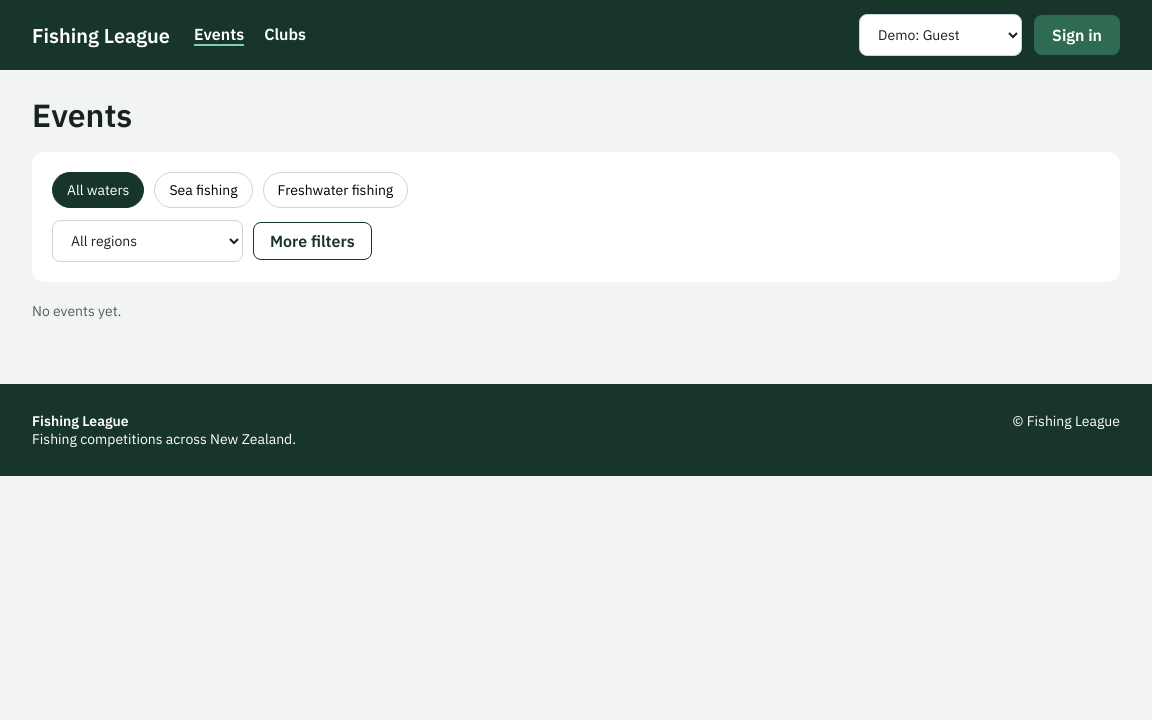
sign-in sheet on phones › works when the browser has no visualViewport
What coordinates should you click on to do the following:
click the button "Sign in"
I would click on:
 (1077, 35)
Its box is [1034,15,1120,55].
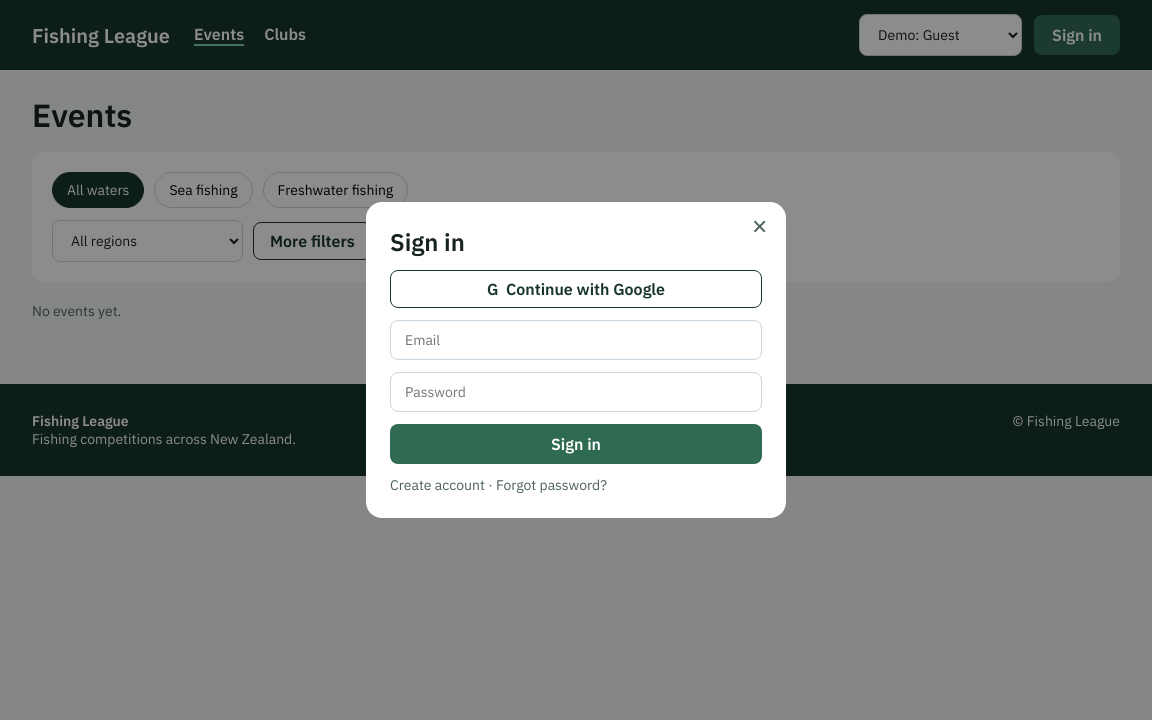
Check: the dialog is shown
